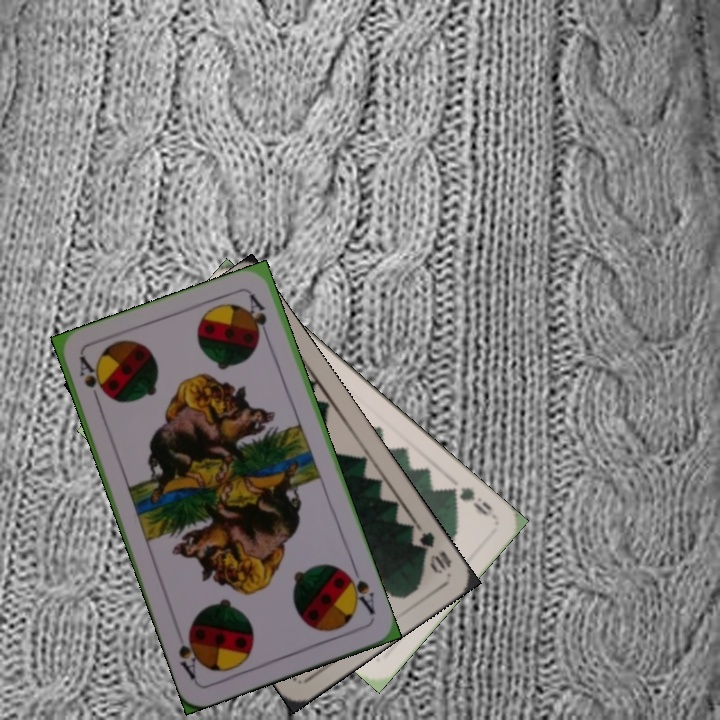G10: (407, 521, 454, 577)
G9: (443, 483, 498, 521)
SA: (340, 563, 378, 617), (74, 352, 107, 410)
